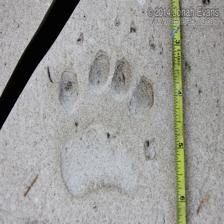bear: (48, 48, 161, 200)
